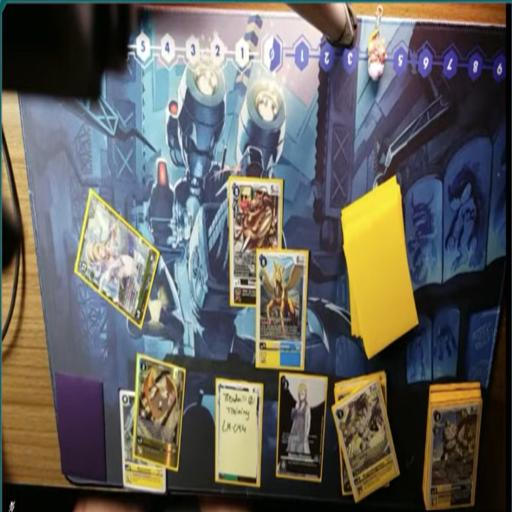card: (78, 192, 150, 317), (334, 376, 402, 502), (228, 177, 284, 312), (255, 249, 309, 371), (427, 398, 480, 512), (132, 357, 186, 468), (276, 370, 329, 483), (122, 384, 166, 492)
